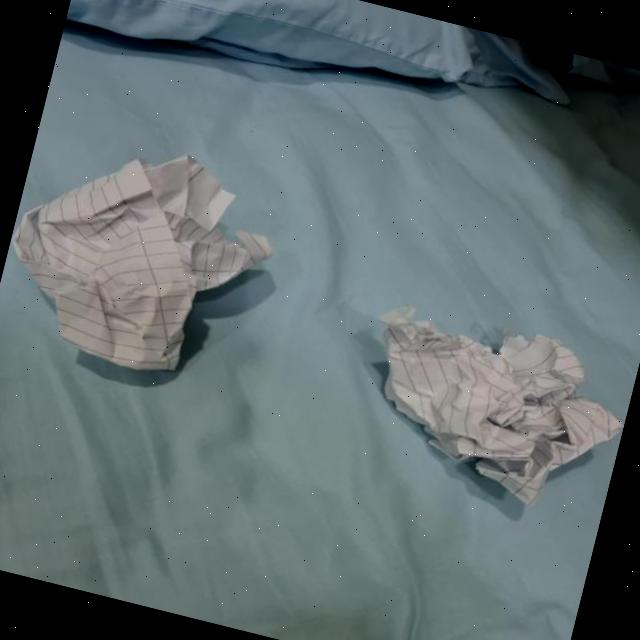trash: (0, 125, 285, 400), (332, 292, 640, 534)
